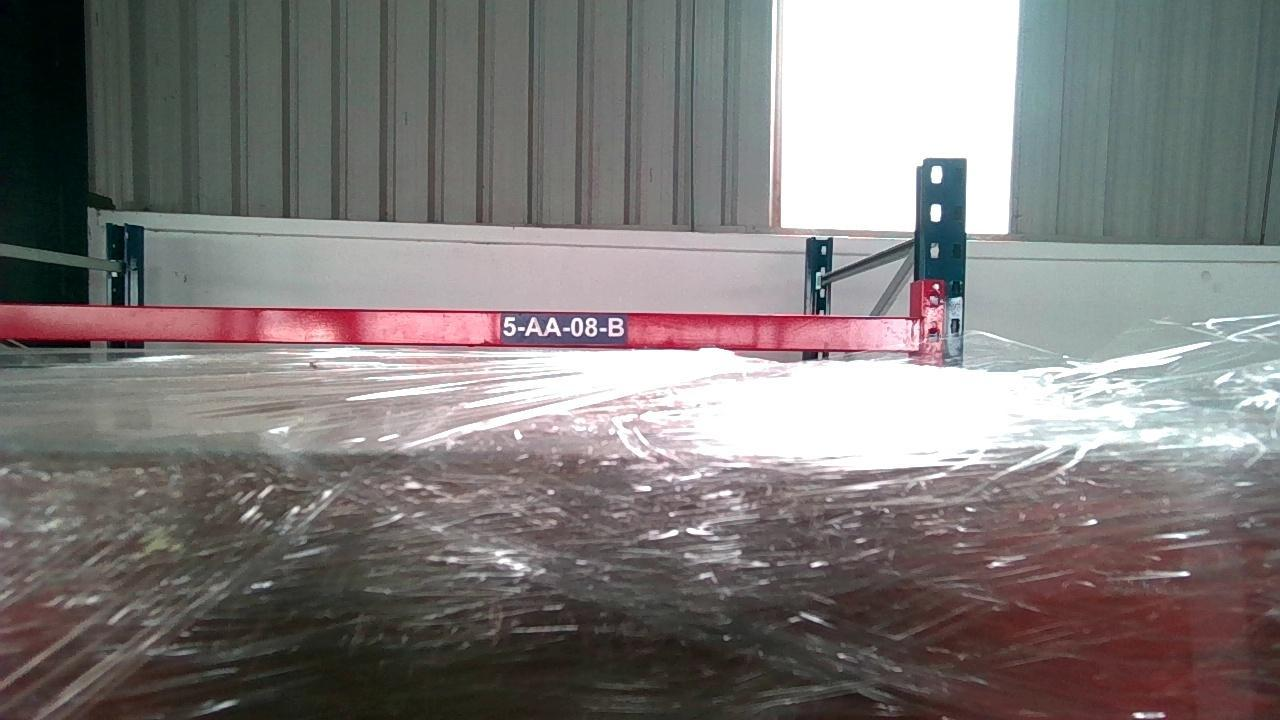h_rack: (0, 302, 917, 348)
